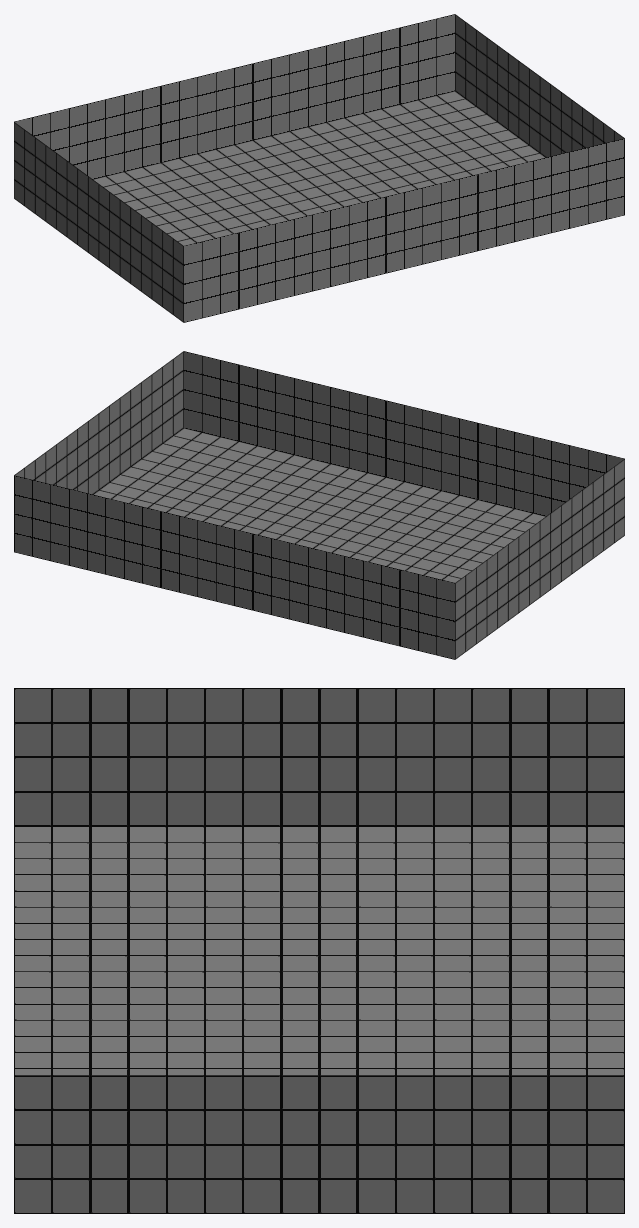
The model's file is Room001.FBX.
3 renders of one model, top to bottom at view 1: azimuth 30°, elevation 25°; view 2: azimuth 150°, elevation 25°; view 3: azimuth 270°, elevation 25°, orthographic. The views are drawn at different scales.
Visible parts, largest first — view 1: Box01; view 2: Box01; view 3: Box01.
Boxes of the visible parts, x1,y1,x2,y2 form: Box01: (14,14,624,322); Box01: (14,351,624,659); Box01: (14,688,624,1213).
Size of the model in its own units: 2400 by 400 by 1600.
